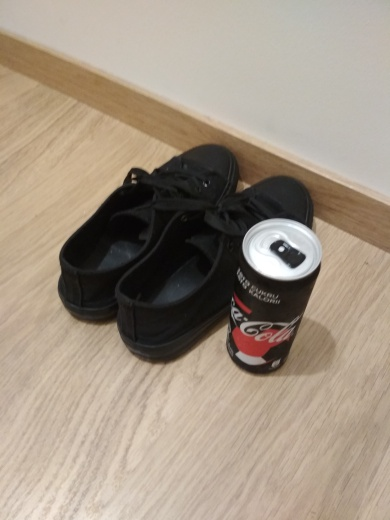colazero: (219, 210, 320, 392)
